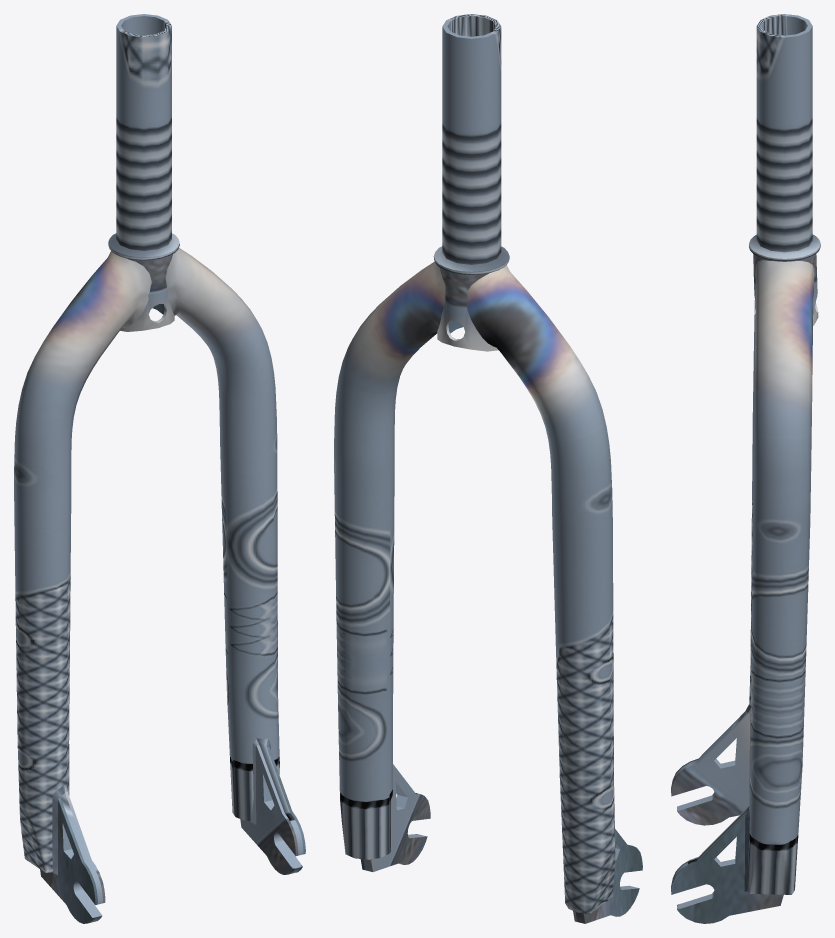
File: BMX_Forks_Saturday_Morning.fbx
The picture shows the model from 3 angles, left to right: view 1: azimuth 30°, elevation 25°; view 2: azimuth 150°, elevation 25°; view 3: azimuth 270°, elevation 25°; orthographic projection. The views are drawn at different scales.
Parts seen in each view (by area): view 1: BMX_Forks_Saturday_Morning; view 2: BMX_Forks_Saturday_Morning; view 3: BMX_Forks_Saturday_Morning.
Part boxes in pixels (<box>): BMX_Forks_Saturday_Morning: <box>14,14,305,923</box>; BMX_Forks_Saturday_Morning: <box>334,14,642,923</box>; BMX_Forks_Saturday_Morning: <box>671,14,820,923</box>.
Bounding box in the file's own units: 14.29 × 44.93 × 7.21.
Materials: 1 (1 with a texture image).
